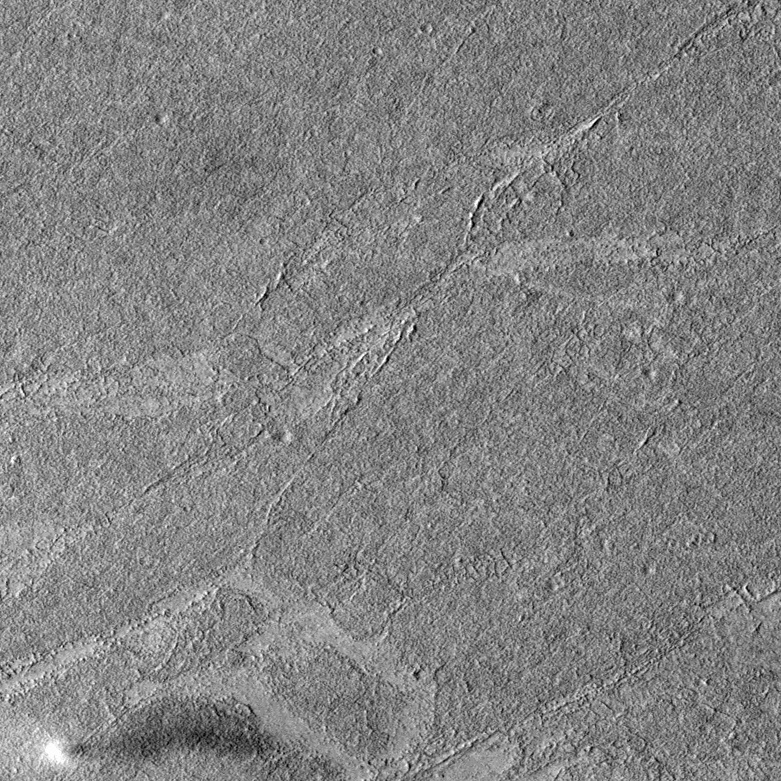dust_devil: (39, 697, 283, 772)
